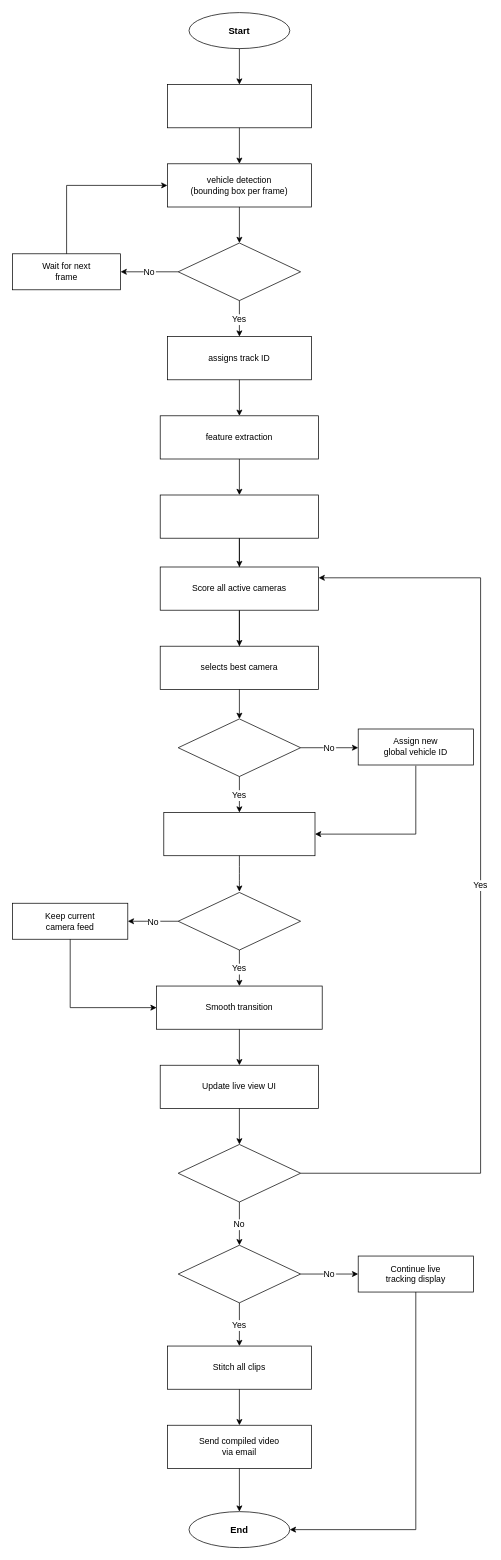
Image size: 501x1560. Some labels were removed from this diagram. Here are the shapes that lost their labels. From the top down, the centre of each, then its label:
[239,106]: Camera C1
[239,271]: Vehicle detected?
[239,516]: Other Camera
[239,747]: ReID match found?
[239,834]: Assign global vehicle ID (matched car)
[239,921]: Switch camera?
[239,1173]: Car still in network?
[239,1274]: Full video requested?
